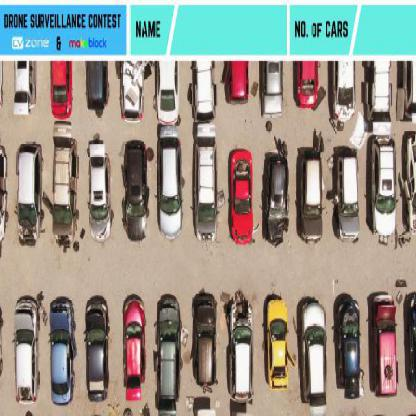car: (49, 297, 77, 404), (14, 295, 40, 406), (302, 298, 328, 409), (50, 131, 75, 243), (122, 140, 150, 240), (156, 295, 181, 407), (371, 133, 397, 236), (192, 289, 218, 392), (228, 302, 254, 405), (338, 295, 363, 400), (195, 130, 218, 244), (372, 296, 398, 396), (85, 298, 110, 401), (159, 135, 183, 240), (17, 143, 41, 247), (122, 295, 145, 402), (298, 148, 324, 242), (89, 139, 112, 244), (231, 150, 255, 246), (266, 300, 289, 393), (266, 152, 288, 245), (341, 151, 361, 244), (329, 62, 355, 123), (364, 61, 390, 121), (119, 63, 144, 123), (47, 61, 72, 120), (258, 62, 284, 118), (192, 61, 215, 120), (293, 62, 320, 110), (14, 60, 37, 116), (84, 61, 109, 111), (158, 62, 177, 126), (223, 62, 249, 107), (404, 132, 415, 231), (401, 61, 415, 120)
